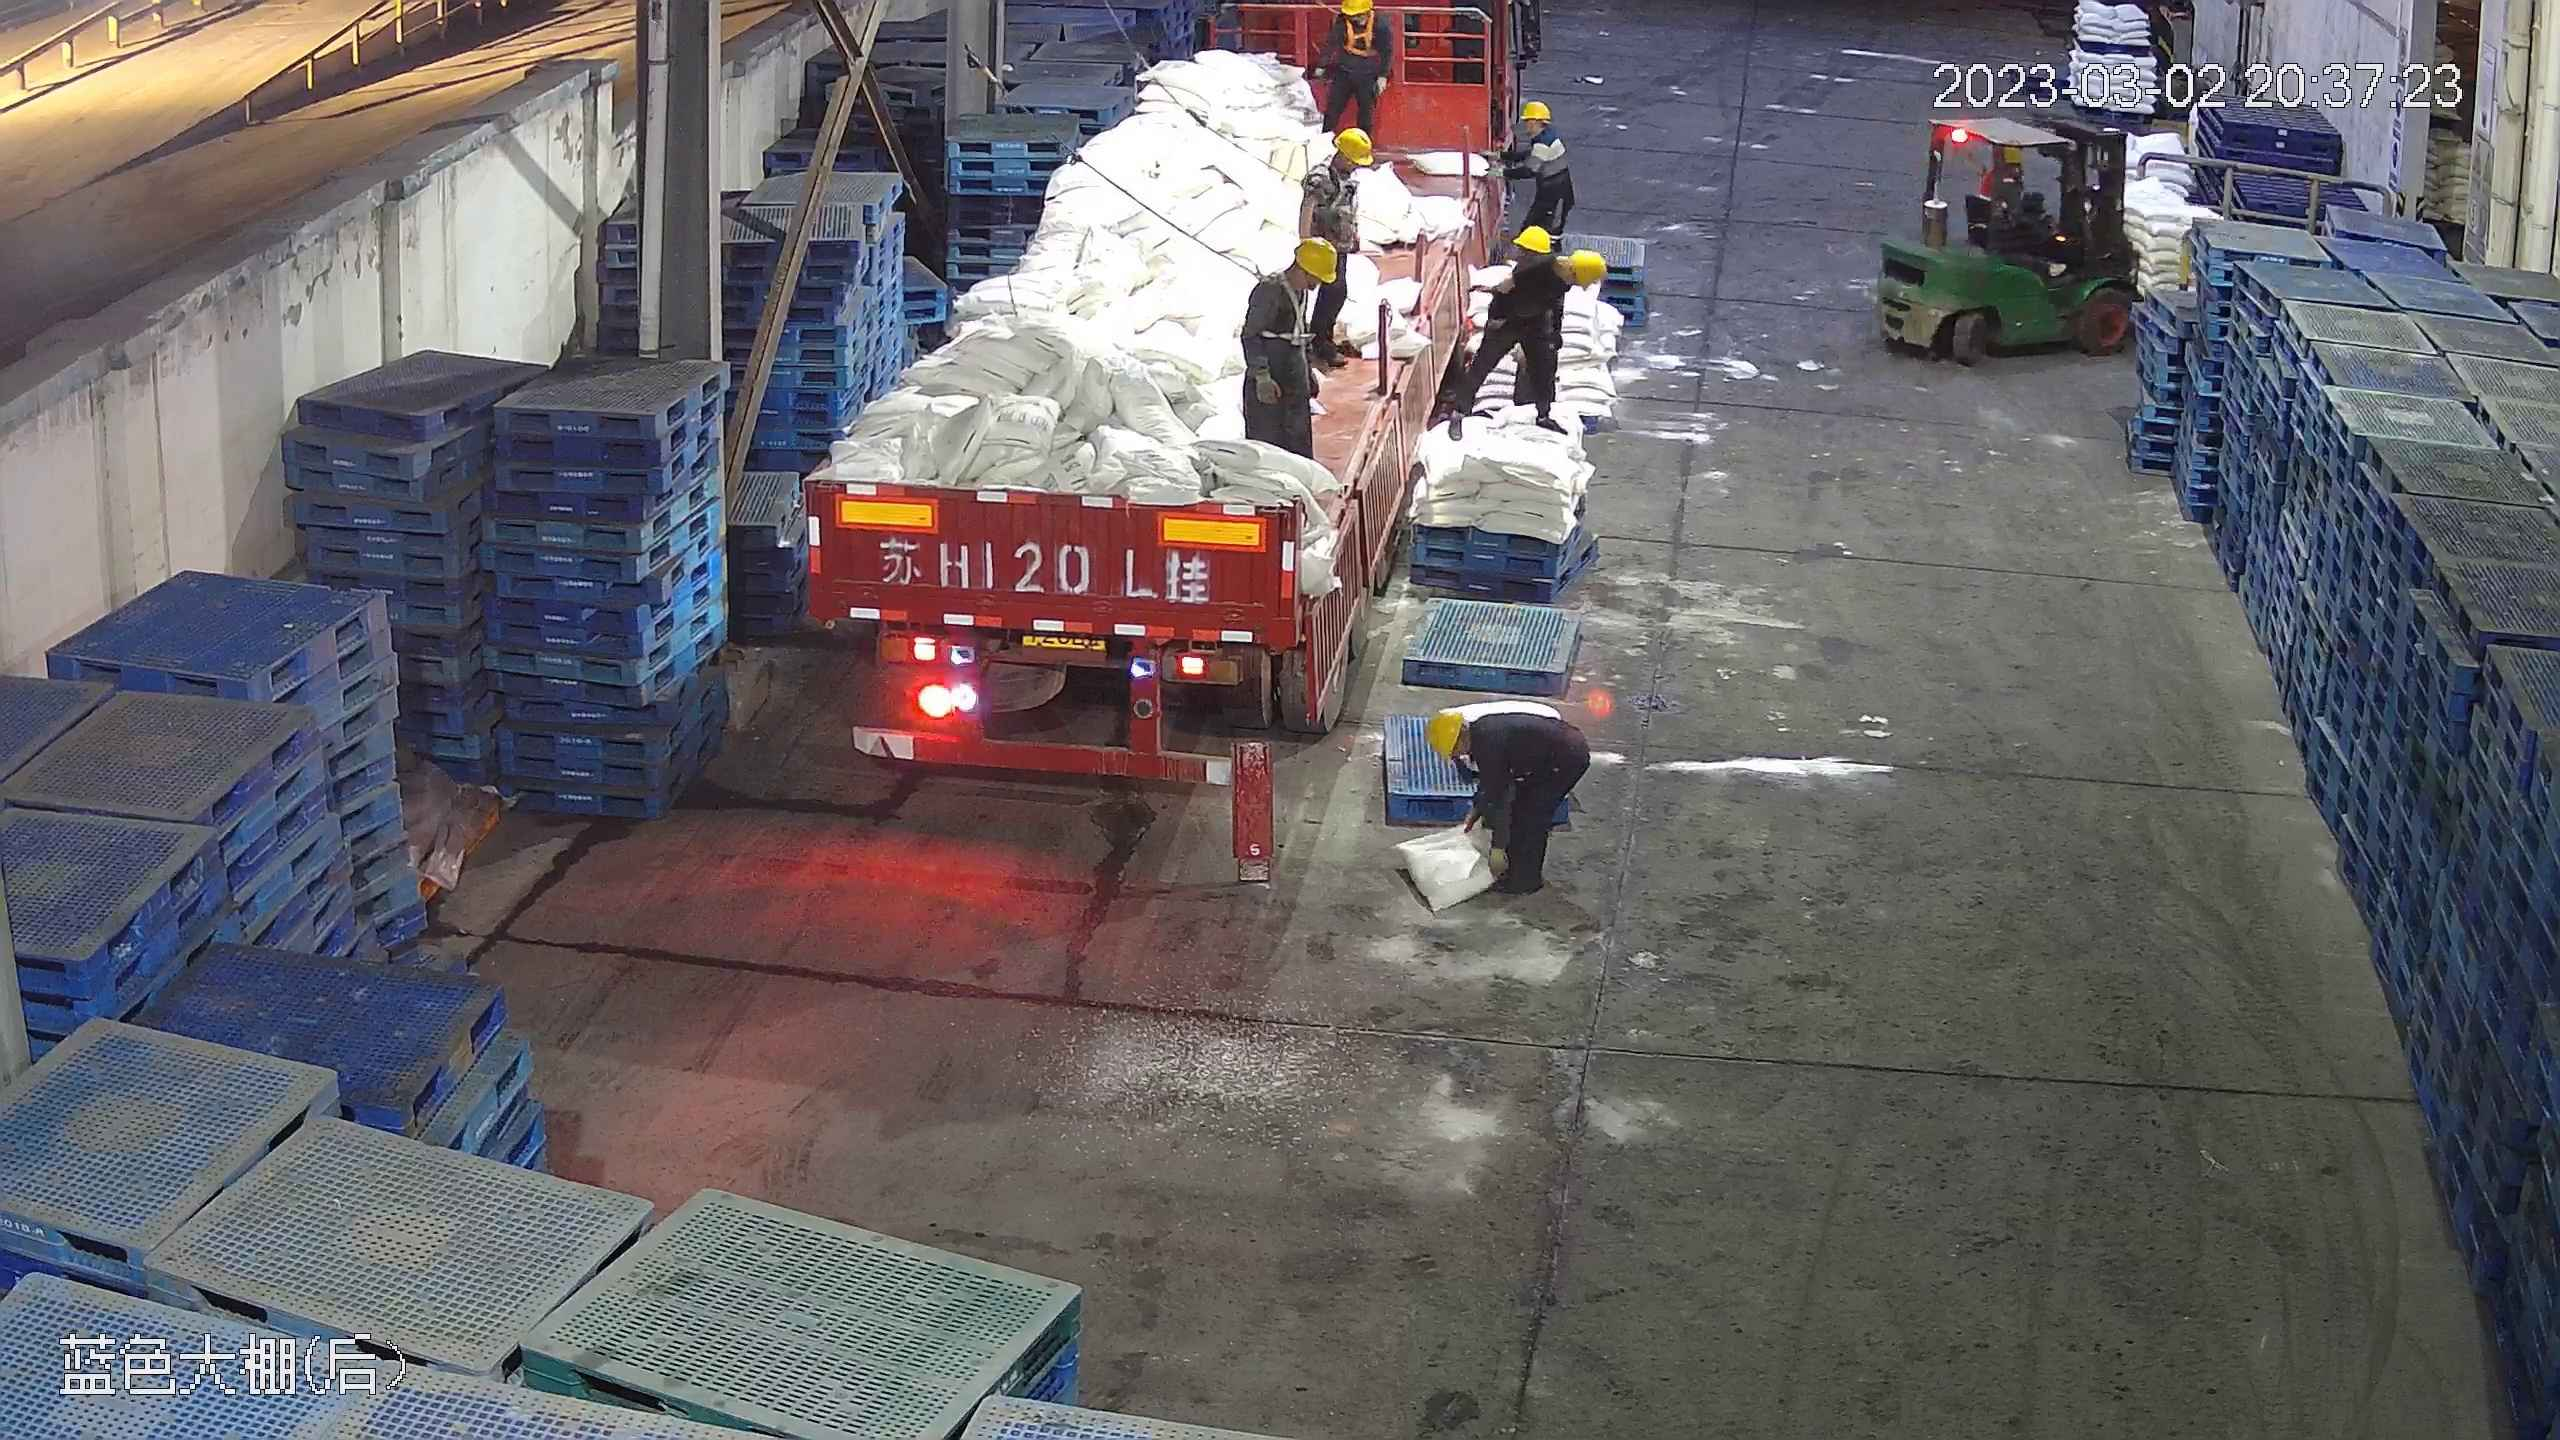belt: (1257, 272, 1322, 342), (1309, 164, 1355, 227), (1330, 11, 1383, 60)
head: (1423, 703, 1528, 786), (1507, 249, 1607, 322), (1256, 240, 1344, 320), (1302, 127, 1370, 199), (1511, 101, 1567, 164), (1327, 1, 1388, 45)
helmet: (1311, 124, 1372, 185), (1423, 706, 1466, 764), (1292, 236, 1340, 283), (1332, 126, 1374, 166), (1565, 249, 1604, 281), (1514, 223, 1553, 251), (1522, 101, 1554, 124), (1999, 144, 2026, 166)
people: (1417, 702, 1610, 901), (1441, 247, 1606, 436), (1236, 234, 1343, 454), (1287, 128, 1364, 361), (1313, 1, 1398, 141), (1504, 102, 1571, 253)
truck: (793, 15, 1518, 780)
